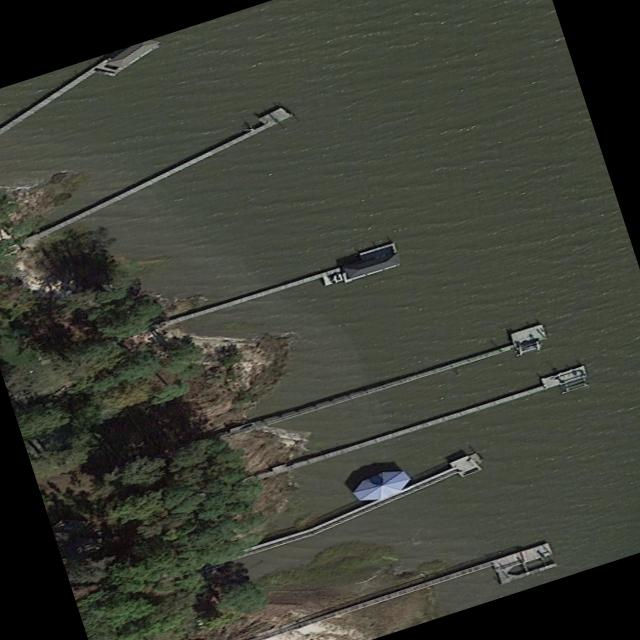ship: (330, 272, 343, 282)
